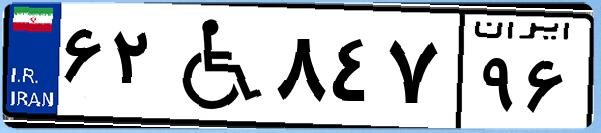2: (110, 28, 158, 98)
4: (330, 28, 385, 110)
6: (57, 26, 110, 100), (525, 38, 570, 115)
7: (385, 28, 445, 110)
8: (270, 28, 330, 110)
9: (475, 38, 525, 113)
ژ (معلولین و جانبازان): (158, 12, 270, 120)
